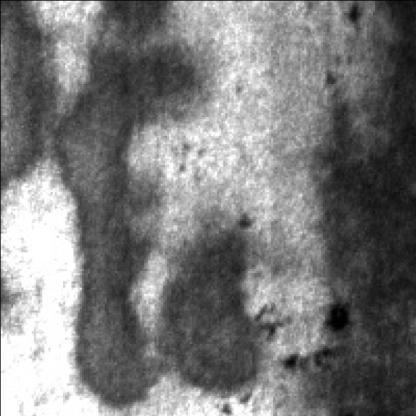patches: (54, 0, 179, 406), (310, 0, 414, 414), (160, 212, 262, 389), (0, 0, 54, 187)
